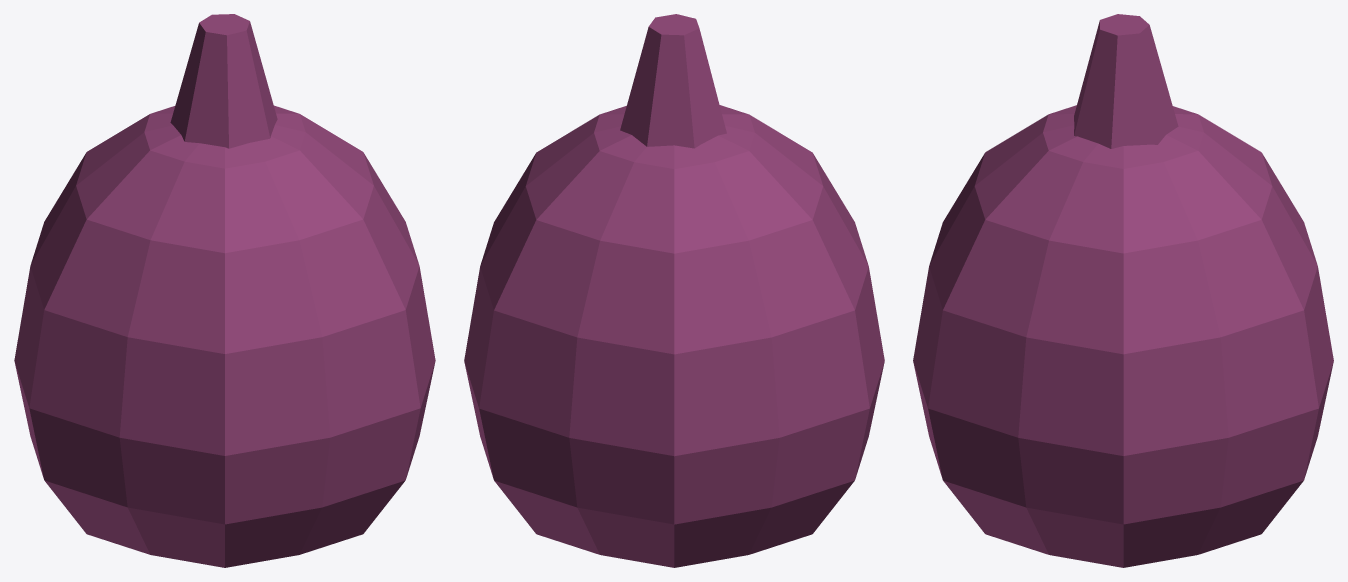
Rendered from onion_whole.glb.
3 views of the same model, side by side, from view 1: azimuth 30°, elevation 25°; view 2: azimuth 150°, elevation 25°; view 3: azimuth 270°, elevation 25° (orthographic).
Parts seen in each view (by area): view 1: onion_whole_0; view 2: onion_whole_0; view 3: onion_whole_0.
Boxes of the visible parts, left/top/right/bottom form: onion_whole_0: left=14, top=14, right=435, bottom=567; onion_whole_0: left=464, top=14, right=884, bottom=567; onion_whole_0: left=913, top=14, right=1333, bottom=567.
Bounding box in the file's own units: 0.207 × 0.245 × 0.193.
